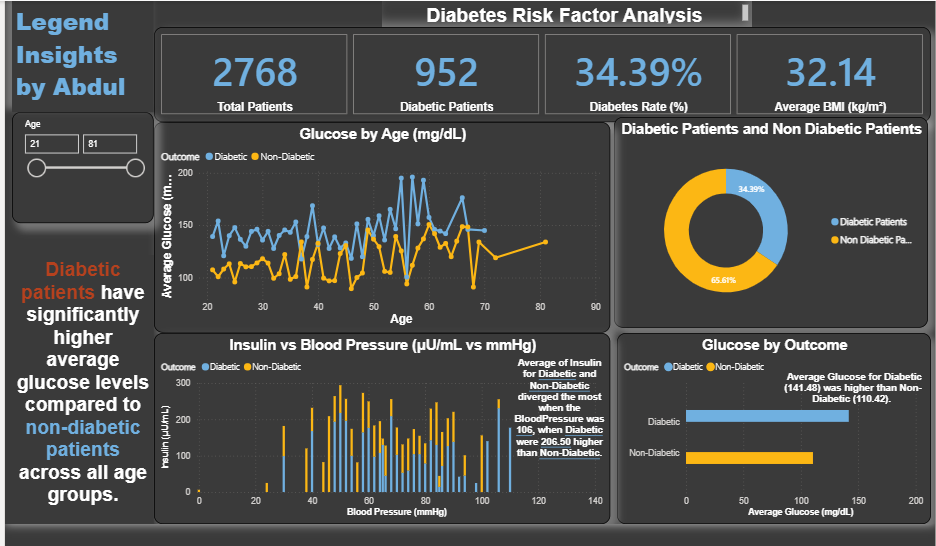

This screenshot's page, from the dashboard's own definition file:
{"tool":"powerbi","page":{"name":"Page 1","canvas":[1280,720],"ordinal":0},"visuals":[{"type":"cardVisual","fields":{"Data":["Healthcare-Diabetes.Total Patients","Healthcare-Diabetes.Diabetic Patients","Healthcare-Diabetes.Diabetes Rate (%)","Healthcare-Diabetes.Average BMI (kg/m²)"]},"box":[205.1,35.8,1069.4,130.8],"z":0},{"type":"donutChart","fields":{"Y":["Healthcare-Diabetes.Diabetic Patients","Healthcare-Diabetes.Non Diabetic Patients"]},"box":[838.2,159.7,432.2,290.4],"z":1000},{"type":"lineChart","title":"Glucose by Age (mg/dL)","fields":{"Category":["Healthcare-Diabetes.Age"],"Y":["Healthcare-Diabetes.Average Glucose"],"Series":["Healthcare-Diabetes.Outcome"]},"box":[205.1,166.5,627.6,290.4],"z":2000},{"type":"clusteredBarChart","title":"Glucose by Outcome","fields":{"Category":["Healthcare-Diabetes.Outcome"],"Y":["Healthcare-Diabetes.Average Glucose"],"Series":["Healthcare-Diabetes.Outcome"]},"box":[842.3,456.9,432.2,262.9],"z":3000},{"type":"lineStackedColumnComboChart","title":"Insulin vs Blood Pressure (μU/mL vs mmHg)","fields":{"Category":["Healthcare-Diabetes.BloodPressure"],"Y":["Avg(Healthcare-Diabetes.Insulin)"],"Series":["Healthcare-Diabetes.Outcome"]},"box":[205.1,456.9,627.6,262.9],"z":4000},{"type":"slicer","fields":{"Values":["Healthcare-Diabetes.Age"]},"box":[9.6,152.8,195.4,152.8],"z":5000},{"type":"textbox","box":[9.6,349.6,195.4,370.2],"z":6000},{"type":"textbox","box":[10,0,195,153],"z":7000},{"type":"textbox","box":[518.9,0,509.2,35.8],"z":8000},{"type":"textbox","box":[1054.3,505.1,225.7,68.8],"z":9000},{"type":"textbox","box":[693.7,455.6,139,225.7],"z":10000}]}

Visuals, with their boxes on the page's 1280x720 design canvas (x1, y1, x2, y2). These are canvas units, not pixel positions in the 936x546 screenshot, which may show the page scaled, cropped or inside an application window:
cardVisual - Healthcare-Diabetes.Total Patients x Healthcare-Diabetes.Diabetic Patients: rect(205, 36, 1274, 167)
donutChart - Healthcare-Diabetes.Diabetic Patients x Healthcare-Diabetes.Non Diabetic Patients: rect(838, 160, 1270, 450)
"Glucose by Age (mg/dL)" lineChart: rect(205, 166, 833, 457)
"Glucose by Outcome" clusteredBarChart: rect(842, 457, 1274, 720)
"Insulin vs Blood Pressure (μU/mL vs mmHg)" lineStackedColumnComboChart: rect(205, 457, 833, 720)
slicer - Healthcare-Diabetes.Age: rect(10, 153, 205, 306)
textbox: rect(10, 350, 205, 720)
textbox: rect(10, 0, 205, 153)
textbox: rect(519, 0, 1028, 36)
textbox: rect(1054, 505, 1280, 574)
textbox: rect(694, 456, 833, 681)
